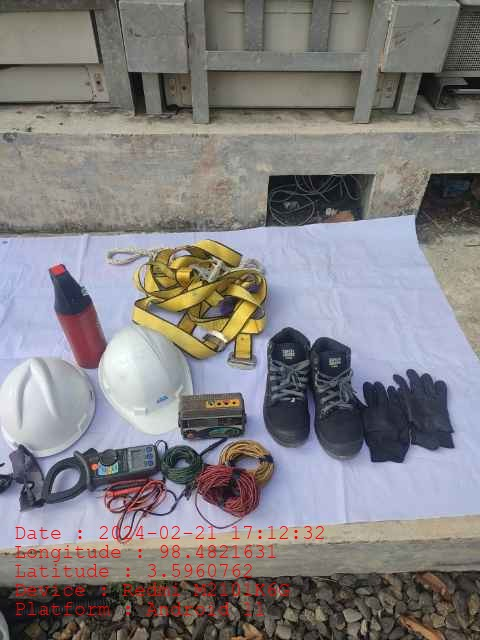HELM: (2, 357, 94, 442)
SARUNG TANGAN: (363, 370, 454, 462)
SEPATU: (265, 329, 364, 458)
